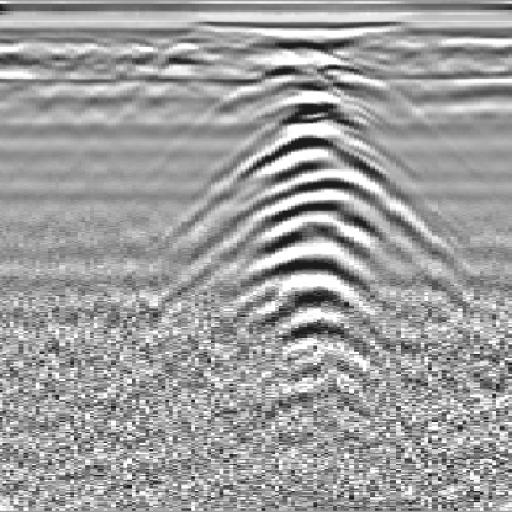metalic: (146, 44, 468, 387)
